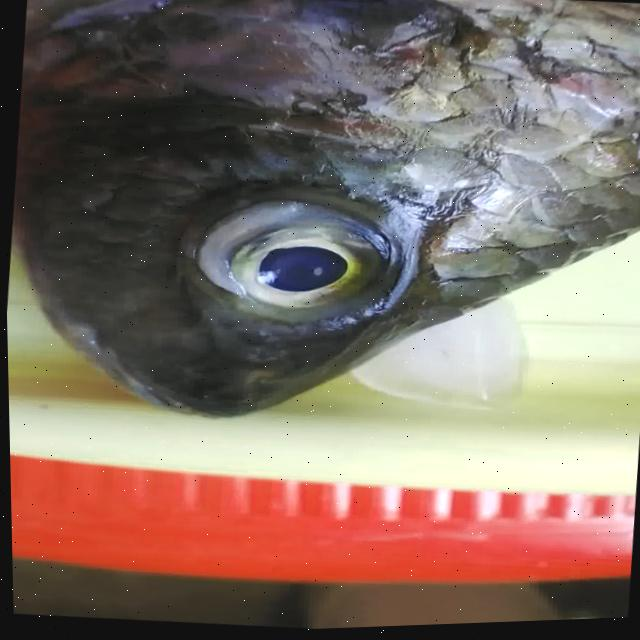Fresh: (150, 174, 441, 349)
